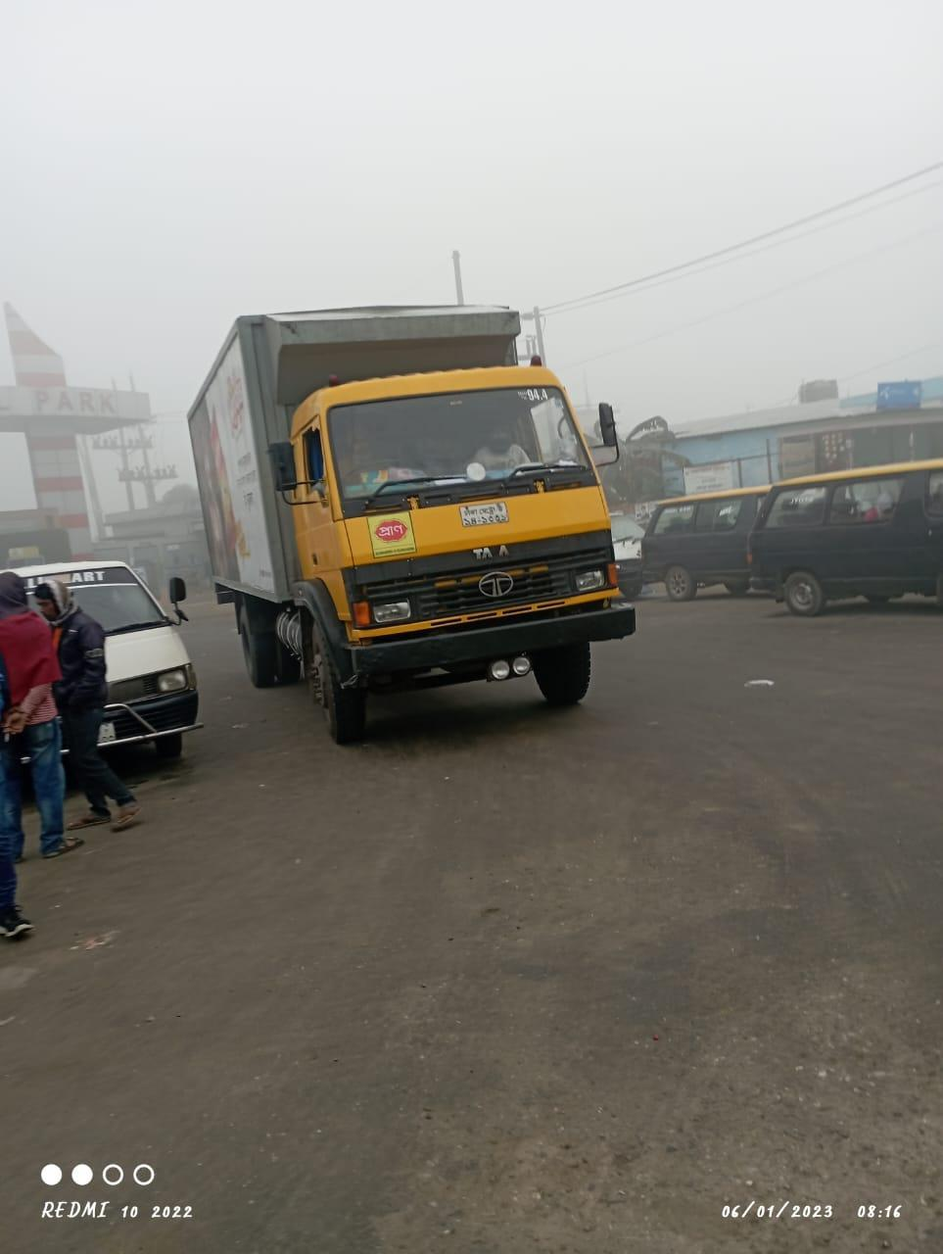Car: (1, 552, 213, 771), (753, 458, 943, 619), (632, 491, 784, 602)
Truck: (193, 299, 668, 738)
